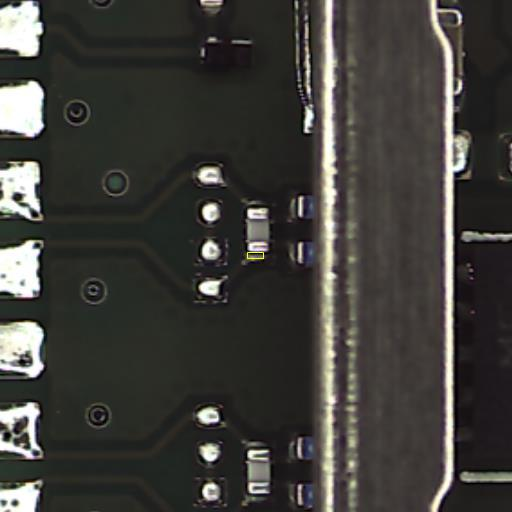bottom_layer: (244, 201, 273, 259), (245, 442, 273, 502)
top_layer: (247, 450, 271, 494), (246, 208, 269, 251)
